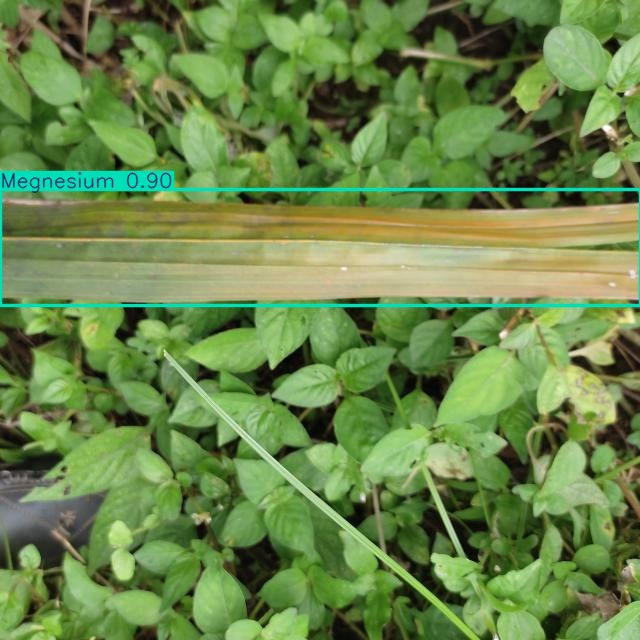Megnesium: (0, 189, 640, 306)
